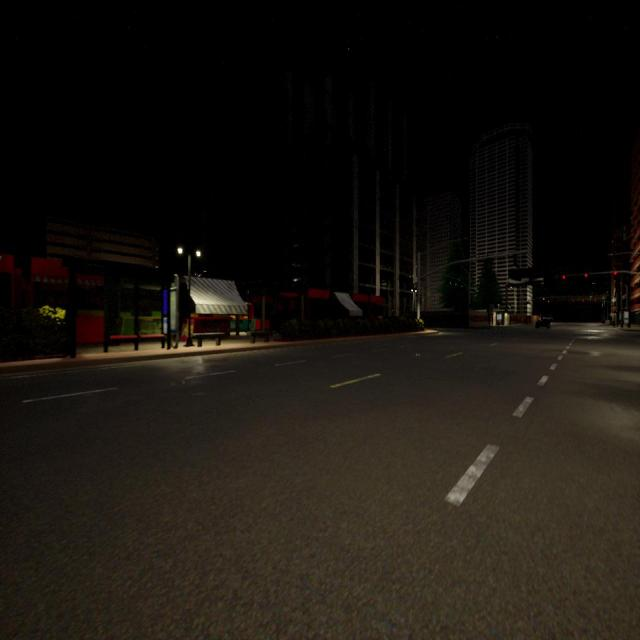Vehicle: (535, 318, 551, 329)
traffic_light: (562, 276, 566, 284), (584, 273, 588, 281), (449, 278, 452, 284), (614, 270, 616, 278), (455, 279, 457, 286), (460, 282, 462, 288), (582, 298, 584, 302), (594, 298, 596, 302), (616, 310, 617, 314)
